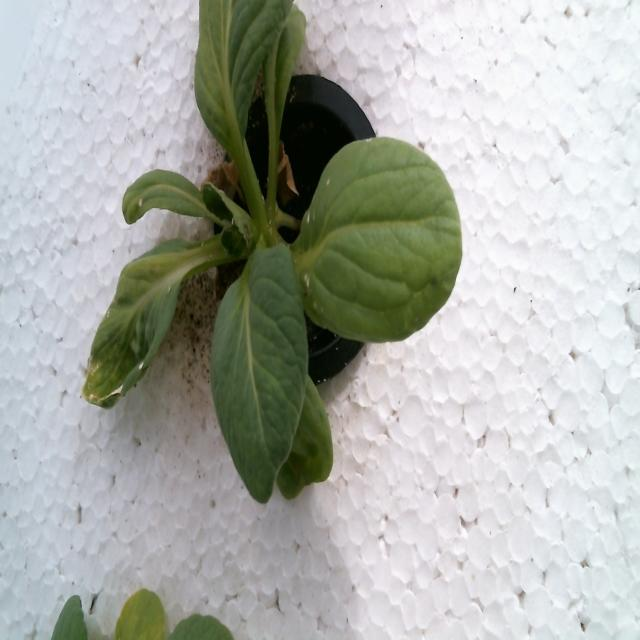pakcoy_tidak_sehat: (84, 0, 466, 521)
